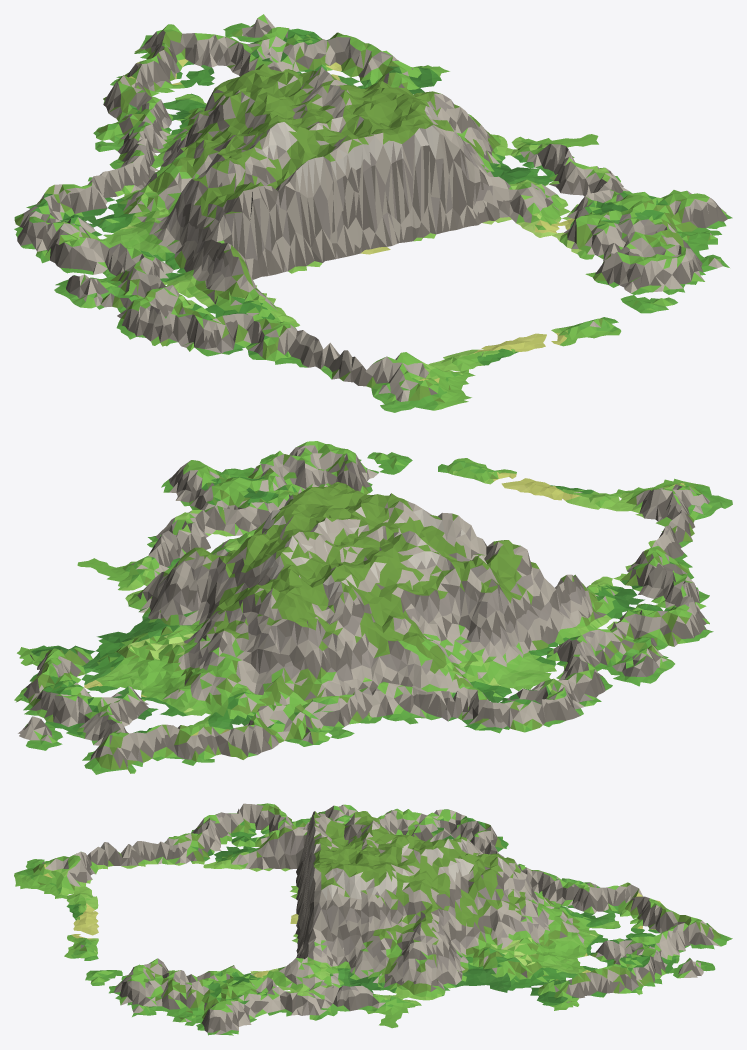
Rendered from Isl-orc6-Relief.fbx.
The picture shows the model from 3 angles, top to bottom: view 1: azimuth 30°, elevation 25°; view 2: azimuth 150°, elevation 25°; view 3: azimuth 270°, elevation 25°; orthographic projection. The views are drawn at different scales.
Visible parts, largest first — view 1: Isl-orc6-Relief-c11, Isl-orc6-Relief-c12, Isl-orc6-Relief-c21, Isl-orc6-Relief-c22, Isl-orc6-Relief-c23, Isl-orc6-Relief-c10, Isl-orc6-Relief-c13, Isl-orc6-Relief-c20; view 2: Isl-orc6-Relief-c12, Isl-orc6-Relief-c22, Isl-orc6-Relief-c11, Isl-orc6-Relief-c21, Isl-orc6-Relief-c23, Isl-orc6-Relief-c10, Isl-orc6-Relief-c13, Isl-orc6-Relief-c20; view 3: Isl-orc6-Relief-c22, Isl-orc6-Relief-c21, Isl-orc6-Relief-c11, Isl-orc6-Relief-c12, Isl-orc6-Relief-c23, Isl-orc6-Relief-c10, Isl-orc6-Relief-c13, Isl-orc6-Relief-c20, Isl-orc6-Relief-c31.
Boxes of the visible parts, box(x1,y1,x2,y2) form: Isl-orc6-Relief-c11: box(66, 134, 511, 385); Isl-orc6-Relief-c12: box(14, 70, 345, 296); Isl-orc6-Relief-c21: box(355, 104, 729, 344); Isl-orc6-Relief-c22: box(184, 39, 598, 184); Isl-orc6-Relief-c23: box(134, 14, 357, 103); Isl-orc6-Relief-c10: box(358, 344, 518, 412); Isl-orc6-Relief-c13: box(100, 59, 183, 127); Isl-orc6-Relief-c20: box(513, 318, 621, 351); Isl-orc6-Relief-c12: box(221, 522, 660, 746); Isl-orc6-Relief-c22: box(17, 487, 381, 723); Isl-orc6-Relief-c11: box(382, 487, 713, 674); Isl-orc6-Relief-c21: box(147, 441, 542, 558); Isl-orc6-Relief-c23: box(14, 659, 220, 774); Isl-orc6-Relief-c10: box(544, 478, 732, 525); Isl-orc6-Relief-c13: box(173, 711, 303, 765); Isl-orc6-Relief-c20: box(442, 458, 549, 487); Isl-orc6-Relief-c22: box(343, 845, 603, 1028); Isl-orc6-Relief-c21: box(84, 841, 345, 1030); Isl-orc6-Relief-c11: box(85, 803, 345, 920); Isl-orc6-Relief-c12: box(342, 804, 603, 919); Isl-orc6-Relief-c23: box(601, 903, 732, 997); Isl-orc6-Relief-c10: box(14, 851, 87, 920); Isl-orc6-Relief-c13: box(601, 882, 668, 920); Isl-orc6-Relief-c20: box(64, 919, 87, 960); Isl-orc6-Relief-c31: box(205, 1016, 238, 1035).
Bounding box in the file's own units: 90.21 × 16.55 × 123.
